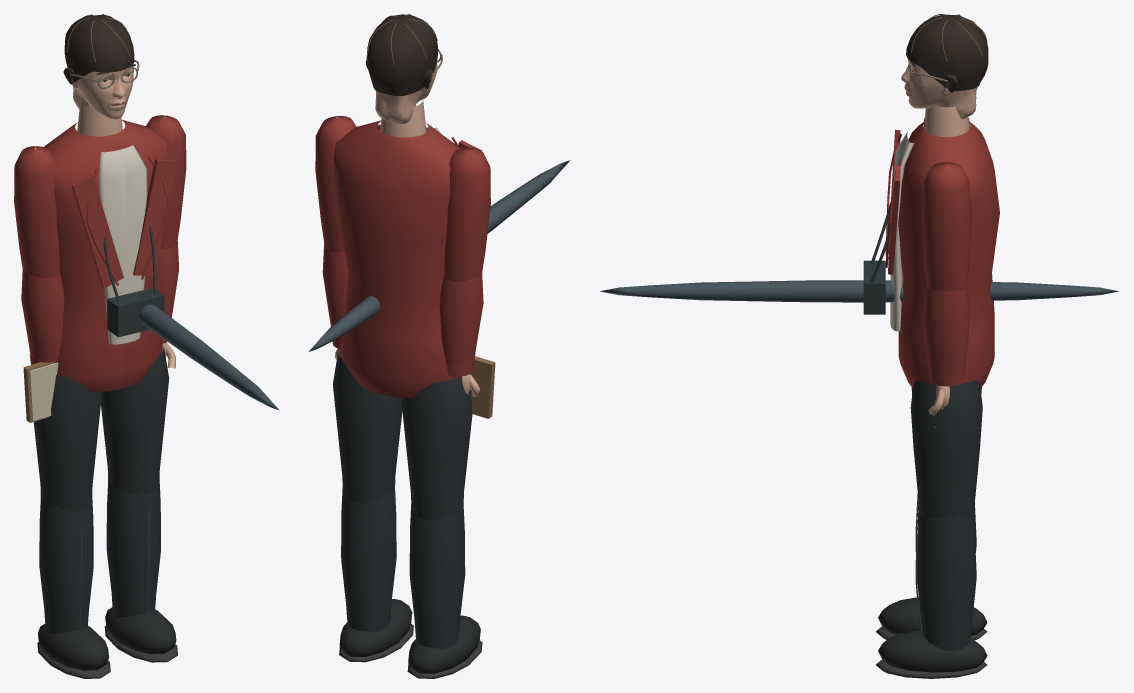
The model's file is karla-kolumna.glb.
The picture shows the model from 3 angles, left to right: view 1: azimuth 30°, elevation 25°; view 2: azimuth 150°, elevation 25°; view 3: azimuth 270°, elevation 25°; orthographic projection.
Visible parts, largest first — view 1: Torso, TrouserThigh (×2), TrouserCalf (×2), TailoredSleeve (×2), ShirtFront, Shoe (×2), Head, LeftForearm, CameraLens, AnatomicalFace, Camera, Sole (×2) (+4 smaller); view 2: Torso, TrouserThigh (×2), TrouserCalf (×2), TailoredSleeve (×2), Head, Shoe (×2), LeftForearm, CameraLens, RightForearm, AnatomicalFace, Notebook, Sole (×2) (+1 smaller); view 3: Torso, TrouserThigh, TrouserCalf, CameraLens, TailoredSleeve, Head, Shoe (×2), RightForearm, AnatomicalFace, ShirtFront, Camera, Neck (+1 smaller).
Boxes of the visible parts, x1,y1,x2,y2 form: Torso: (44,120,177,392); TrouserThigh (×2): (33,346,169,511); TrouserCalf (×2): (39,481,160,633); TailoredSleeve (×2): (14,115,186,278); ShirtFront: (98,144,147,344); Shoe (×2): (38,607,176,670); Head: (63,14,139,88); LeftForearm: (21,269,64,364); CameraLens: (139,304,279,410); AnatomicalFace: (72,63,133,119); Camera: (107,287,164,337); Sole (×2): (37,626,177,678); Torso: (333,120,481,398); TrouserThigh (×2): (332,351,472,520); TrouserCalf (×2): (341,487,465,649); TailoredSleeve (×2): (315,116,490,281); Head: (365,14,442,95); Shoe (×2): (339,599,480,673); LeftForearm: (439,273,483,376); CameraLens: (308,160,570,351); RightForearm: (322,243,347,348); AnatomicalFace: (375,61,437,123); Notebook: (470,356,495,418); Sole (×2): (339,624,482,678); Torso: (870,121,999,387); TrouserThigh: (910,380,982,518); TrouserCalf: (917,513,976,650); CameraLens: (600,280,1118,302); TailoredSleeve: (922,162,971,291); Head: (906,14,988,92); Shoe (×2): (878,597,987,672); RightForearm: (923,285,970,386); AnatomicalFace: (901,59,977,118); ShirtFront: (890,132,915,331); Camera: (863,260,885,314); Neck: (924,105,969,137).
Bounding box in the file's own units: 0.4836 × 1.76 × 1.3.
